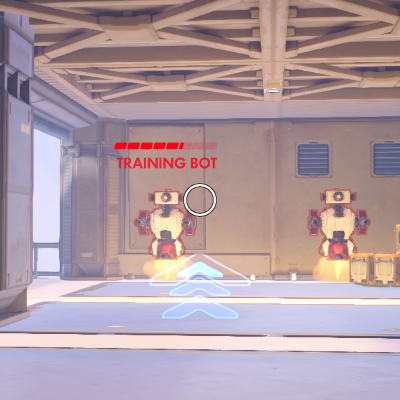hpbar: (114, 142, 218, 150)
